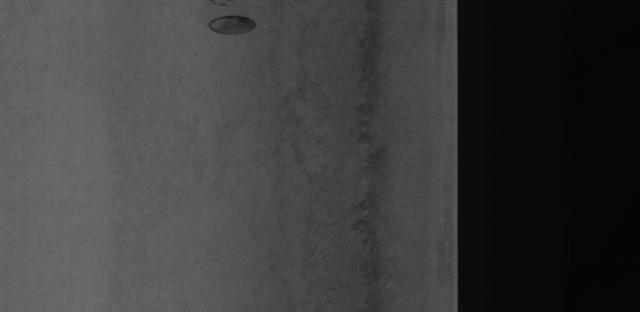oil_spot: (195, 6, 264, 45)
silk_spot: (279, 1, 418, 308)
